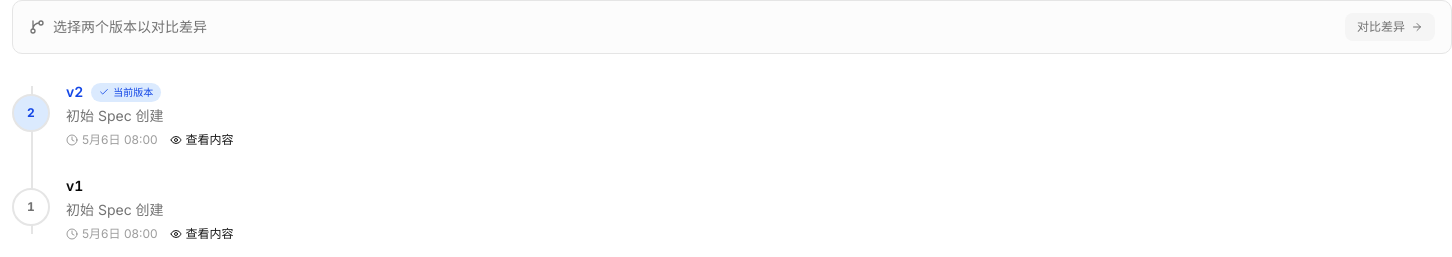
it: VersionTimeline › Compare button › is enabled when exactly 2 versions selected
The width and height of the screenshot is (1452, 257).
Click the button named "选择 v1".
click(31, 207)  # box top-left (12, 188), bottom-right (50, 226)
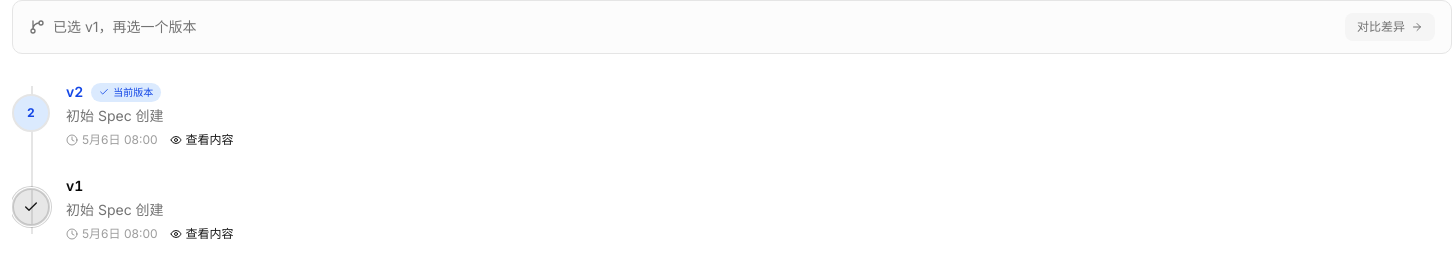
Click the button named "选择 v2".
click(31, 113)  # box top-left (12, 94), bottom-right (50, 132)
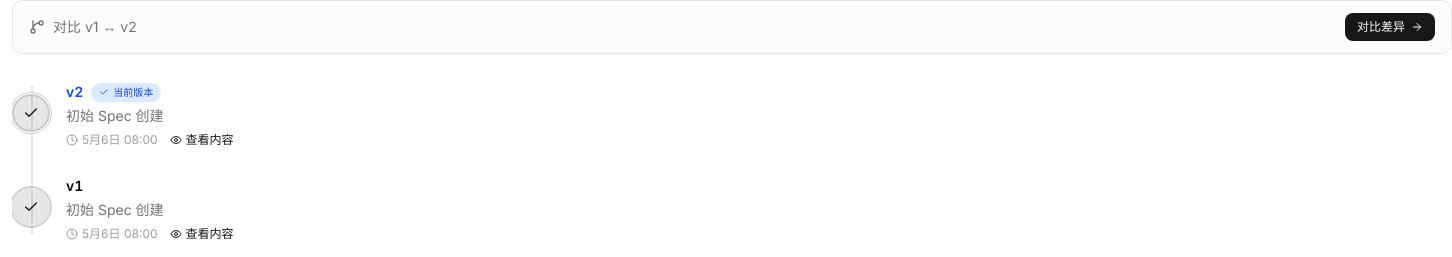
expect the button "对比差异" is enabled: met, box top-left (1345, 13), bottom-right (1435, 41)
